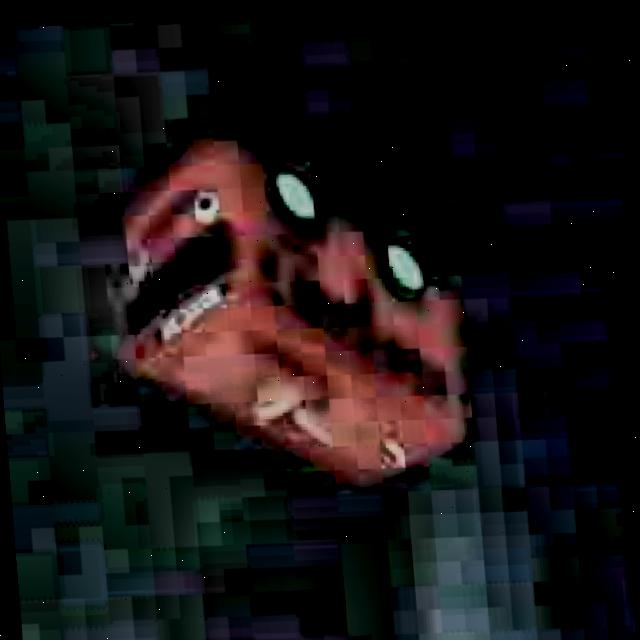bus: (93, 96, 490, 530)
